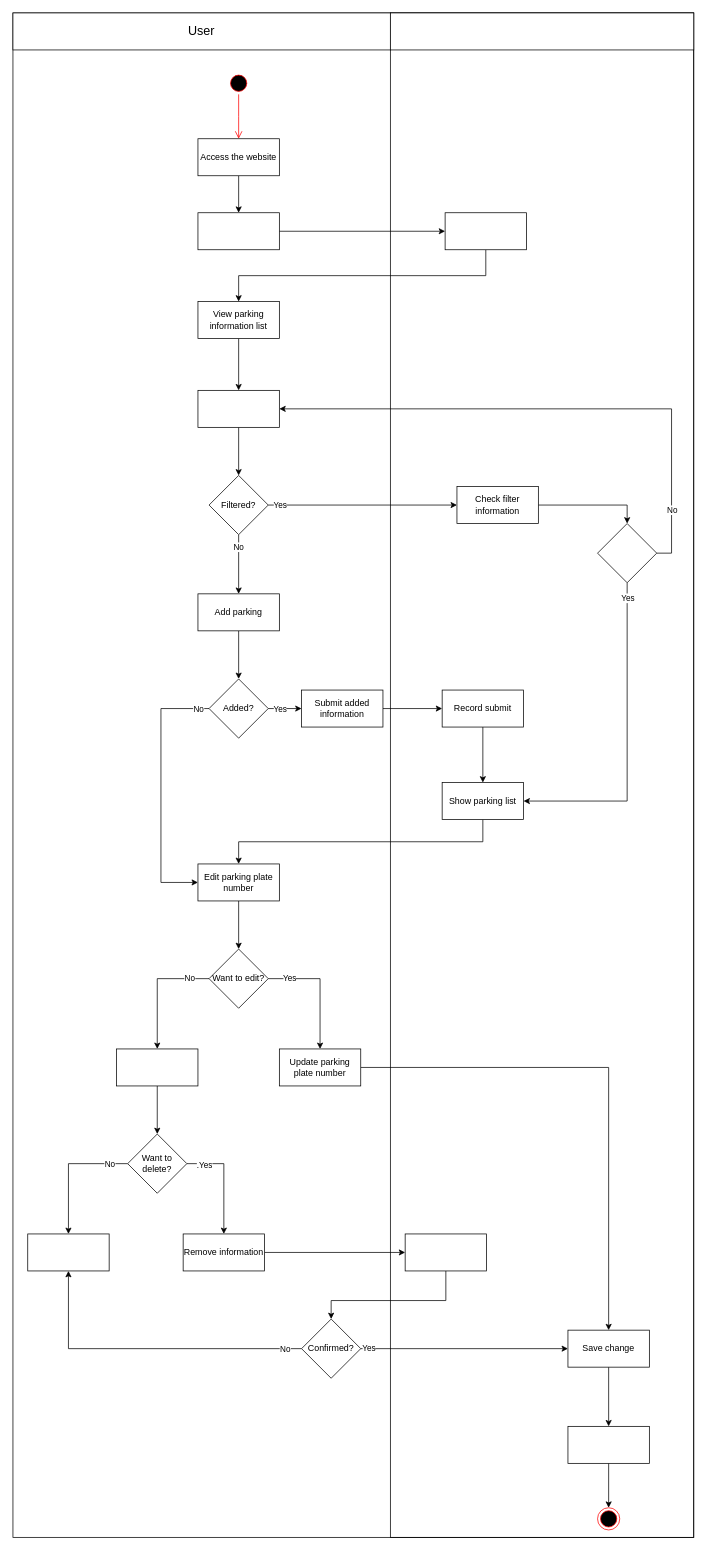
This 707x1550 diagram has some shape labels left out. Each missing label, with the box of its shape:
Access manage guest parking: (197, 212, 279, 250)
Cancel: (27, 1233, 109, 1271)
Check successful?: (597, 523, 657, 583)
Delete parking: (116, 1048, 198, 1086)
Display parking information list: (444, 212, 527, 250)
Display updated information: (567, 1426, 649, 1463)
Filter parking by plate number: (197, 390, 279, 427)
Send confirmation form: (404, 1233, 487, 1271)
System: (390, 12, 694, 50)
